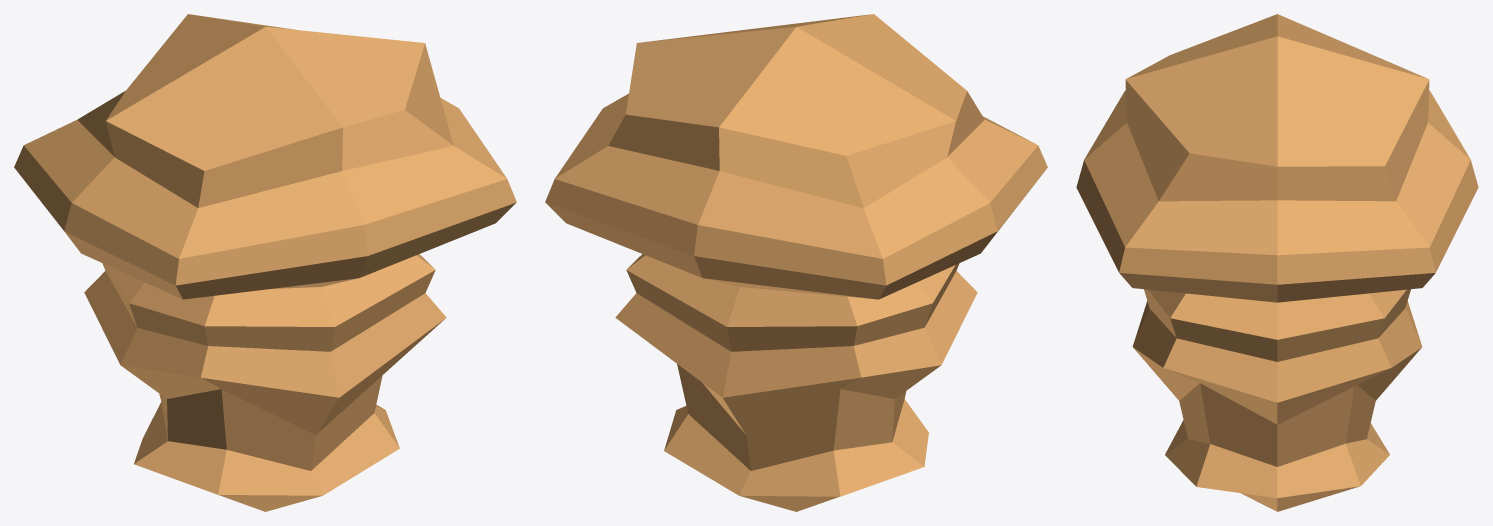
The model's file is stonetower2.fbx.
The picture shows the model from 3 angles, left to right: view 1: azimuth 30°, elevation 25°; view 2: azimuth 150°, elevation 25°; view 3: azimuth 270°, elevation 25°; orthographic projection.
Parts seen in each view (by area): view 1: Plane.003; view 2: Plane.003; view 3: Plane.003.
Part boxes in pixels (bbox=[...]): Plane.003: bbox=[14, 14, 516, 511]; Plane.003: bbox=[545, 14, 1047, 511]; Plane.003: bbox=[1076, 14, 1478, 511].
Bounding box in the file's own units: 332 × 383 × 293.
